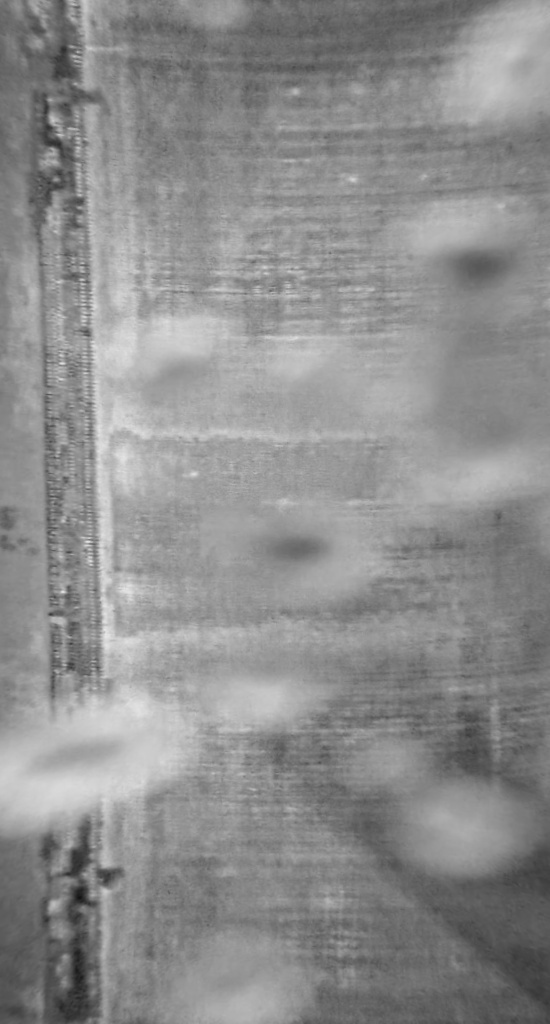splice: (14, 1, 111, 1022)
